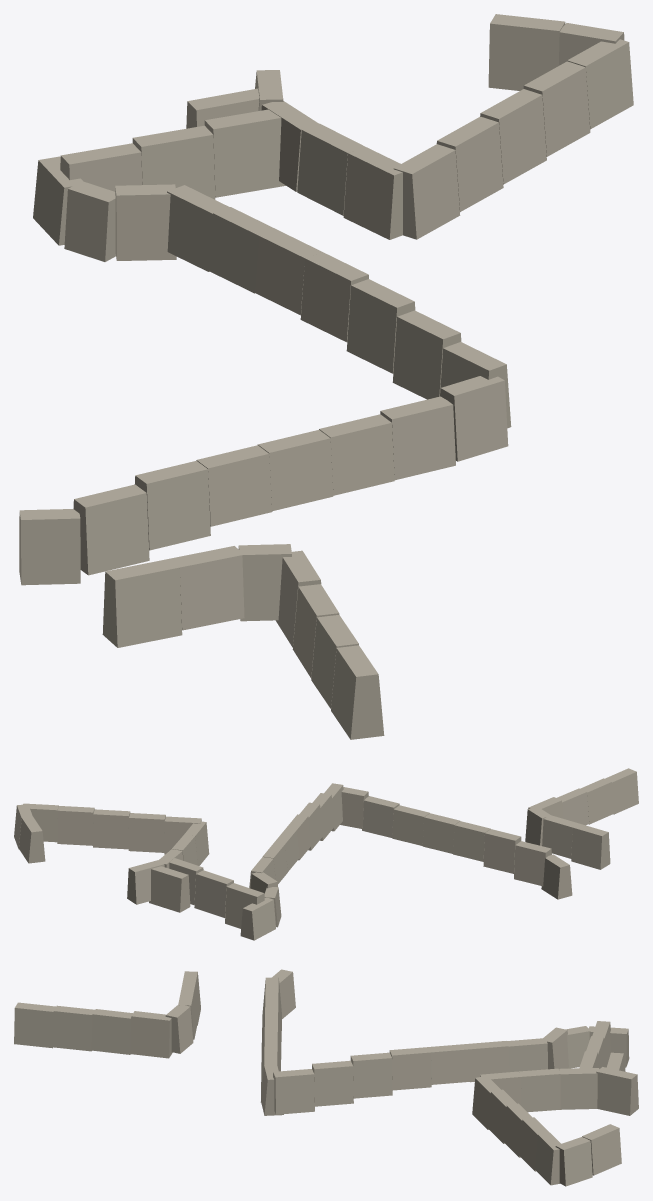
The model's file is kalkara_64_21_mid.glb.
The picture shows the model from 3 angles, top to bottom: view 1: azimuth 30°, elevation 25°; view 2: azimuth 150°, elevation 25°; view 3: azimuth 270°, elevation 25°; orthographic projection. The views are drawn at different scales.
Visible parts, largest first — view 1: geometry_0; view 2: geometry_0; view 3: geometry_0.
Boxes of the visible parts, x1,y1,x2,y2 form: geometry_0: (19,14,633,739); geometry_0: (14,768,638,940); geometry_0: (14,969,638,1186).
Bounding box in the file's own units: 171 × 31.89 × 191.
